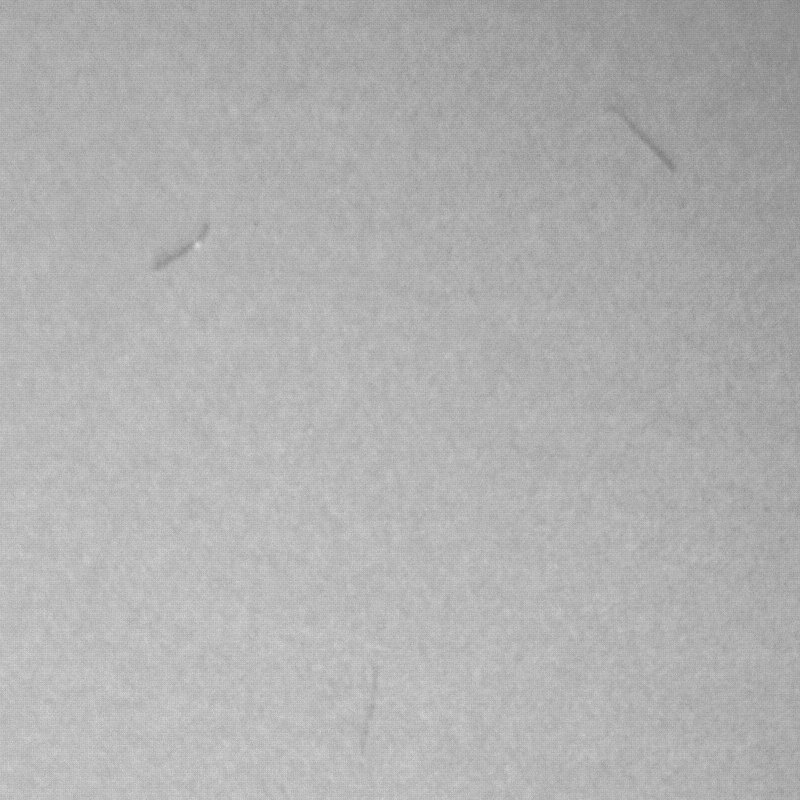defect: (601, 100, 678, 173), (154, 225, 214, 272), (357, 662, 379, 763)
